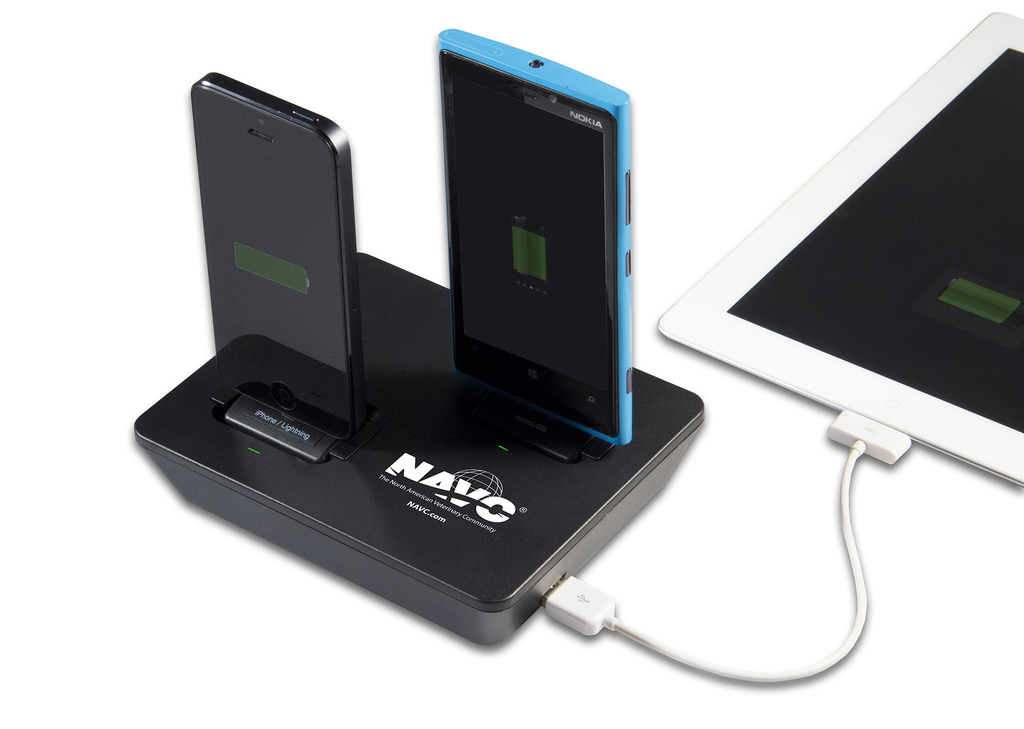Mobile-phone: (434, 30, 636, 453), (192, 71, 353, 427)
